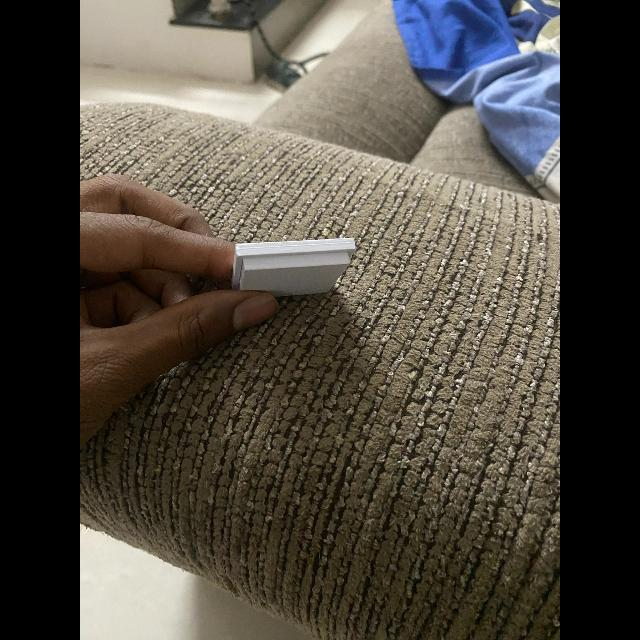RASPBERY PI CAM ENCLOSURE: (232, 238, 356, 296)
